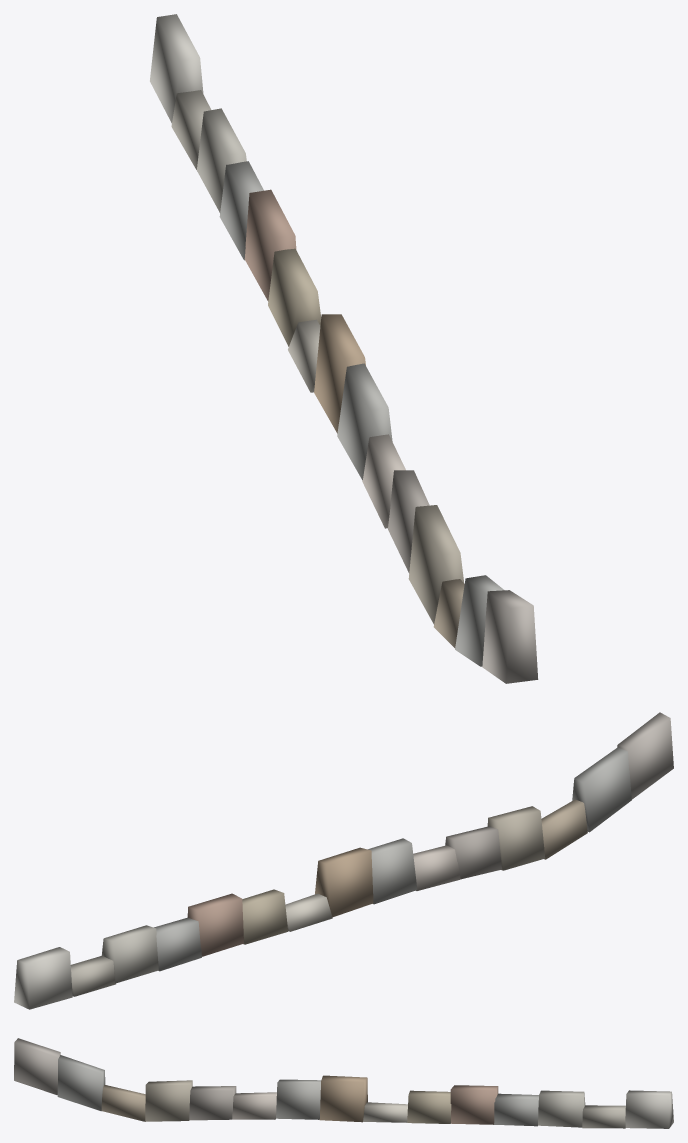
Rendered from farm_-62_-52_far.glb.
The picture shows the model from 3 angles, top to bottom: view 1: azimuth 30°, elevation 25°; view 2: azimuth 150°, elevation 25°; view 3: azimuth 270°, elevation 25°; orthographic projection. The views are drawn at different scales.
Visible parts, largest first — view 1: geometry_0; view 2: geometry_0; view 3: geometry_0.
Part boxes in pixels (left/top/right/bottom): geometry_0: left=150, top=14, right=538, bottom=683; geometry_0: left=14, top=712, right=673, bottom=1009; geometry_0: left=14, top=1038, right=673, bottom=1128.
Bounding box in the file's own units: 6.68 × 3.27 × 23.3.
